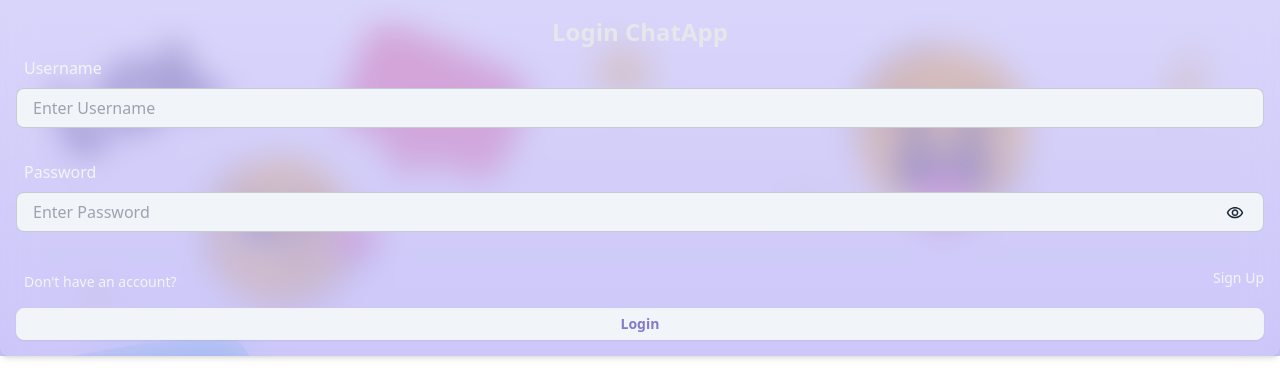
Login page › should display error when username is too short or too long
Type "te" into the field with id "userName" at {"x": 640, "y": 108}, box [16, 88, 1264, 128]
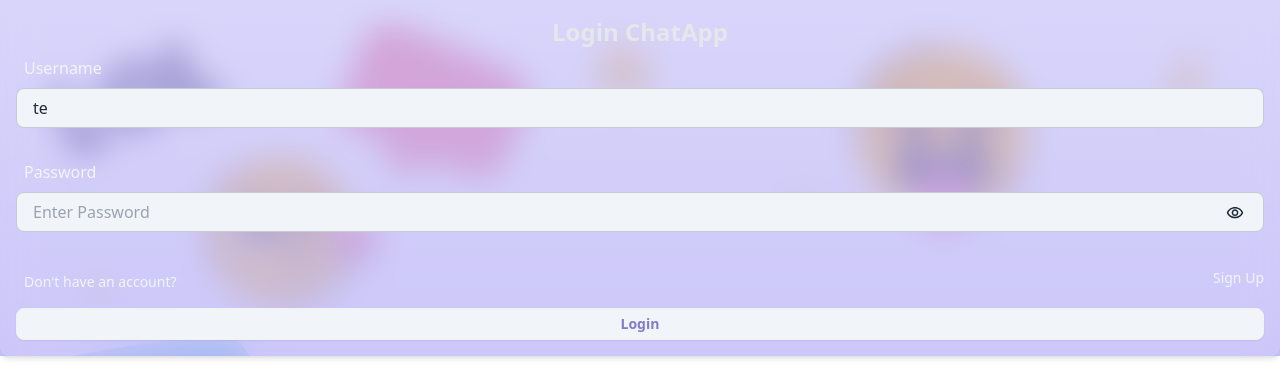
Type "A1" into the password field labelled "Password" at {"x": 640, "y": 212}, box [16, 192, 1264, 232]
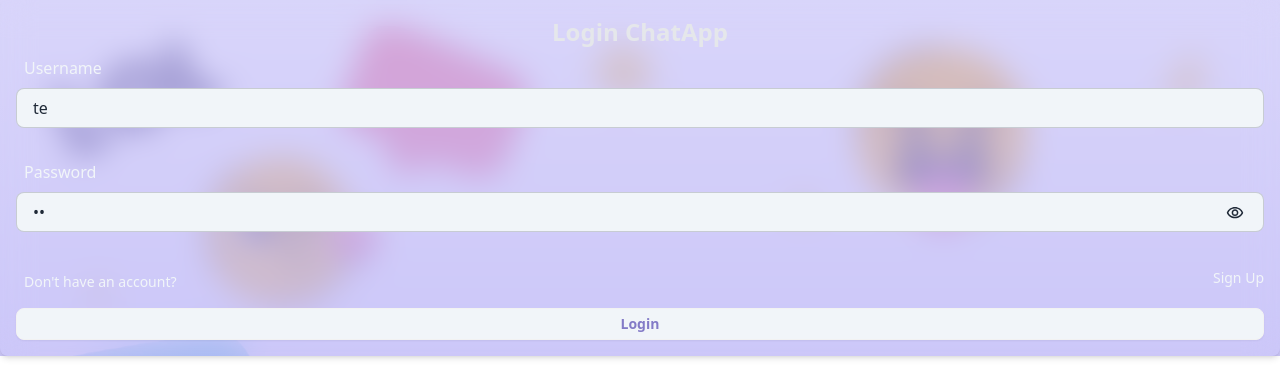
Submit the form from the button "Login", box [16, 308, 1264, 340]
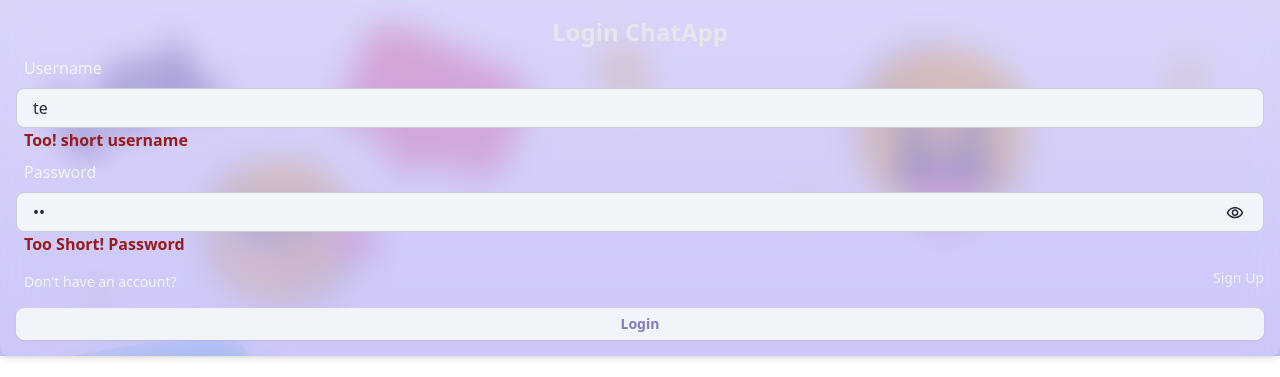
expect the text "Too! short username" is shown: met, box [24, 129, 188, 151]
expect the text "Too Short! Password" is shown: met, box [24, 233, 185, 255]
